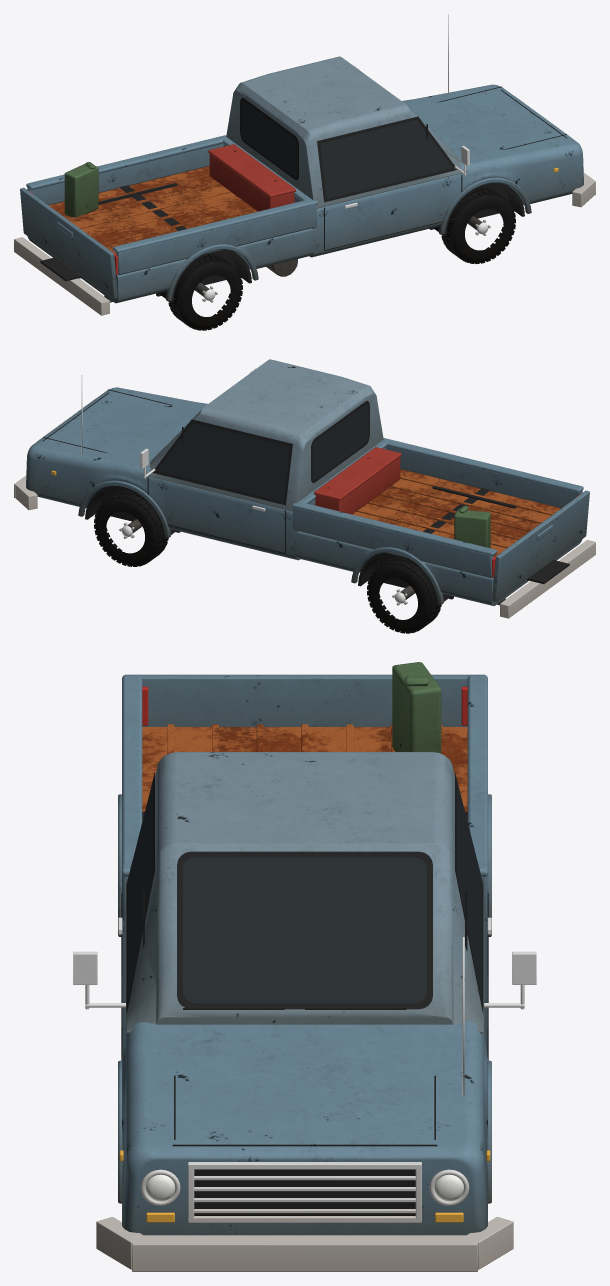
File: prop_pickup.glb
The picture shows the model from 3 angles, top to bottom: view 1: azimuth 30°, elevation 25°; view 2: azimuth 150°, elevation 25°; view 3: azimuth 270°, elevation 25°; orthographic projection. The views are drawn at different scales.
Visible parts, largest first — view 1: Body, Cab, BedWalls, Glass, BedFloor, Tailgate, Toolbox, Tyre, Tyre.002, Chrome, WheelWells, Seals (+4 smaller); view 2: Body, Cab, BedWalls, Glass, BedFloor, Tailgate, Toolbox, Tyre.001, Tyre.003, Chrome, WheelWells, Seals (+3 smaller); view 3: Body, Cab, Glass, Chrome, Tailgate, BedFloor, BedWalls, GrilleBack, Seals, Jerrycan, Trim, ArchFlares (+1 smaller).
Boxes of the visible parts, left/top/right/bottom form: Body: left=27, top=84, right=583, bottom=303; Cab: left=226, top=56, right=467, bottom=208; BedWalls: left=26, top=135, right=317, bottom=275; Glass: left=241, top=101, right=452, bottom=198; BedFloor: left=49, top=166, right=257, bottom=253; Tailgate: left=20, top=187, right=117, bottom=299; Toolbox: left=208, top=144, right=295, bottom=211; Tyre: left=168, top=253, right=242, bottom=330; Tyre.002: left=441, top=187, right=515, bottom=263; Chrome: left=14, top=65, right=595, bottom=315; WheelWells: left=98, top=183, right=524, bottom=302; Seals: left=240, top=98, right=456, bottom=202; Body: left=26, top=387, right=582, bottom=605; Cab: left=142, top=359, right=383, bottom=511; BedWalls: left=292, top=438, right=583, bottom=577; Glass: left=157, top=404, right=368, bottom=501; BedFloor: left=352, top=469, right=560, bottom=556; Tailgate: left=492, top=490, right=589, bottom=601; Toolbox: left=314, top=447, right=401, bottom=514; Tyre.001: left=367, top=556, right=441, bottom=633; Tyre.003: left=94, top=489, right=168, bottom=566; Chrome: left=14, top=368, right=595, bottom=618; WheelWells: left=85, top=485, right=516, bottom=605; Seals: left=152, top=400, right=369, bottom=505; Body: left=122, top=899, right=487, bottom=1235; Cab: left=126, top=752, right=483, bottom=1033; Glass: left=127, top=781, right=482, bottom=1004; Chrome: left=73, top=917, right=536, bottom=1271; Tailgate: left=124, top=674, right=485, bottom=726; BedFloor: left=142, top=724, right=467, bottom=821; BedWalls: left=122, top=675, right=487, bottom=921; GrilleBack: left=194, top=1169, right=415, bottom=1215; Seals: left=126, top=772, right=483, bottom=1013; Jerrycan: left=392, top=662, right=441, bottom=753; Trim: left=121, top=891, right=488, bottom=1146; ArchFlares: left=118, top=794, right=491, bottom=1203.
Bounding box in the file's own units: 5.67 × 1.91 × 2.28.
Materials: 14 (8 with a texture image).
